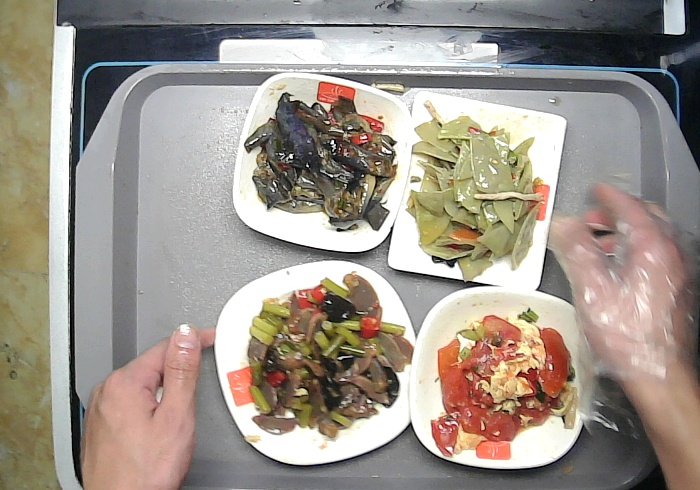SHKJ-Bai_Se_Cai_Die: (410, 287, 594, 466)
SHKJ-Bai_Se_Si_Fang_Cai_Die: (214, 260, 422, 464)
SHKJ-Bai_Se_Xiao_Fang_Die: (233, 73, 413, 254)
SHKJ-Si_Fang_Min: (388, 89, 568, 293)
